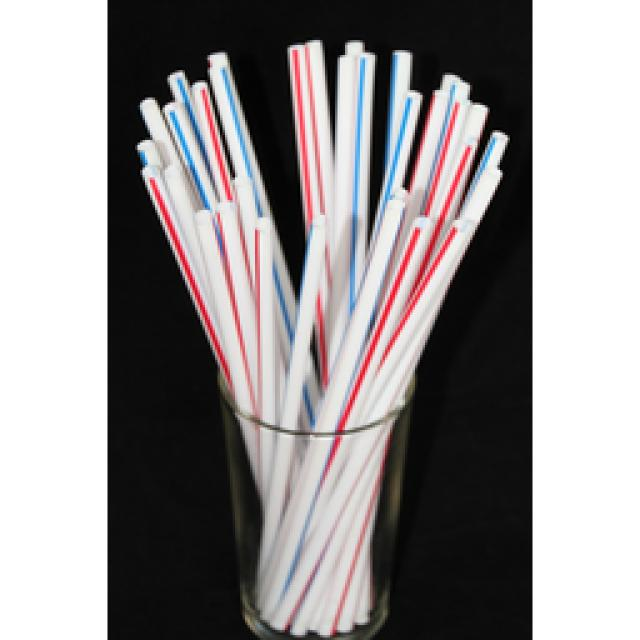plastic: (132, 35, 510, 637)
